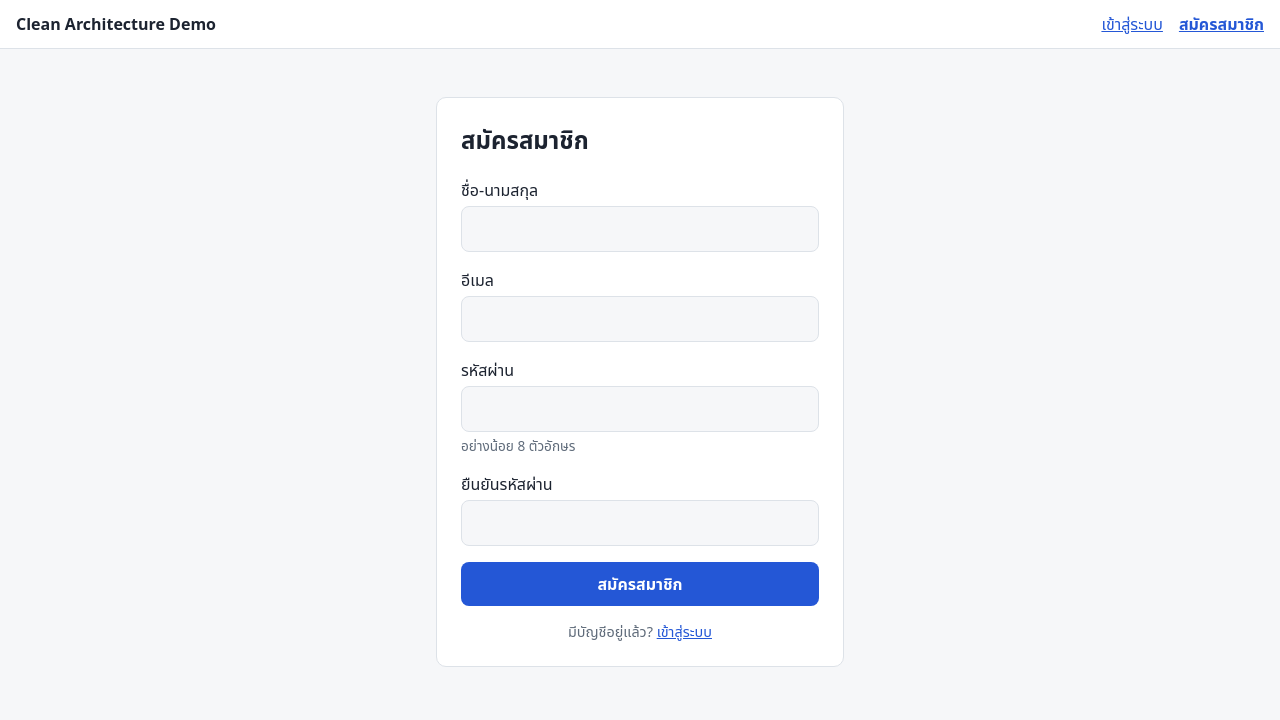
Test: RegisterPage › shows a taken email next to the email field
Step 1. Type "Jane Doe" into the field labelled "ชื่อ-นามสกุล" → (640, 229), box 461,206 -> 819,252
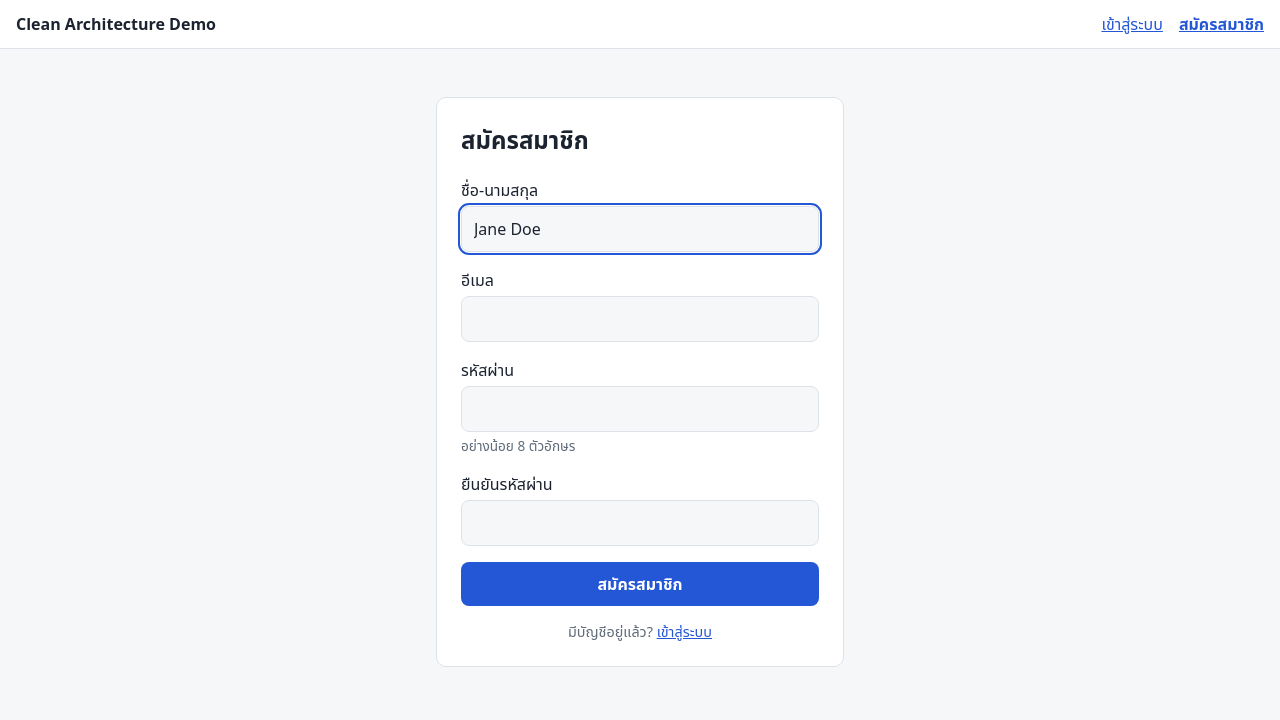
Step 2. Type "jane@example.com" into the field labelled "อีเมล" → (640, 319), box 461,296 -> 819,342
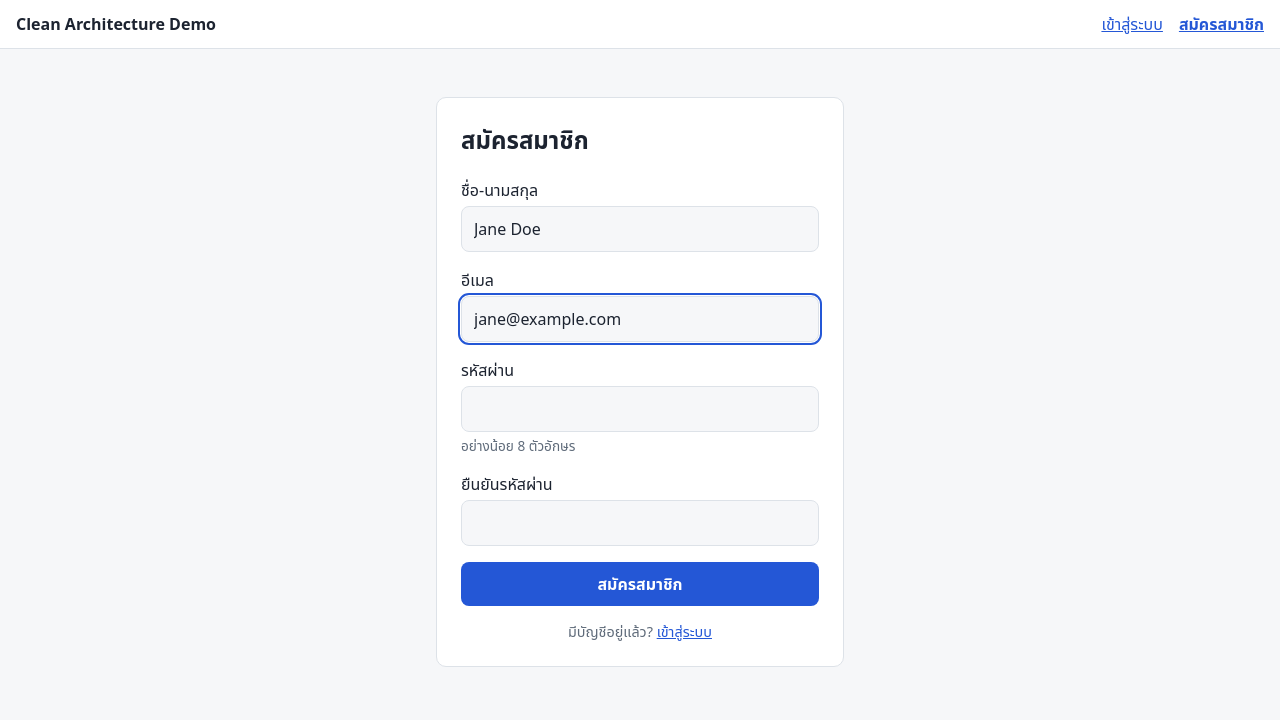
Step 3. Type "s3cret-pass" into the password field labelled "รหัสผ่าน" → (640, 409), box 461,386 -> 819,432
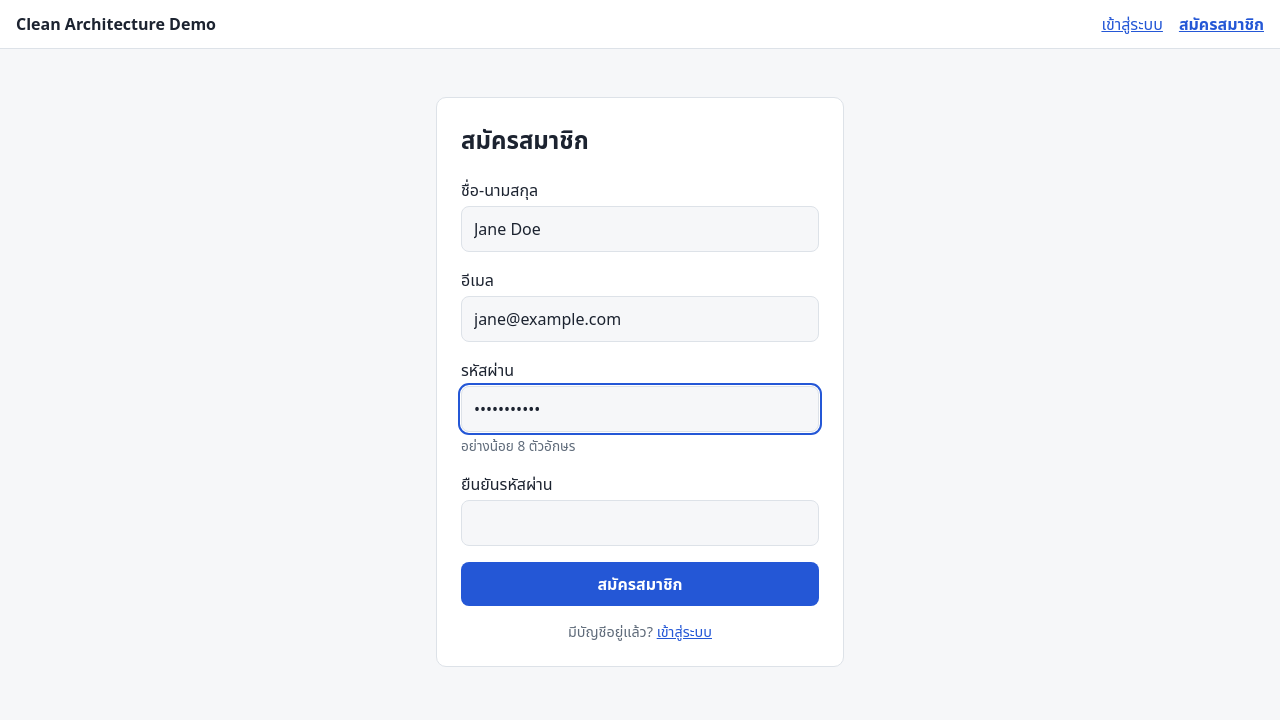
Step 4. Type "s3cret-pass" into the password field labelled "ยืนยันรหัสผ่าน" → (640, 523), box 461,500 -> 819,546
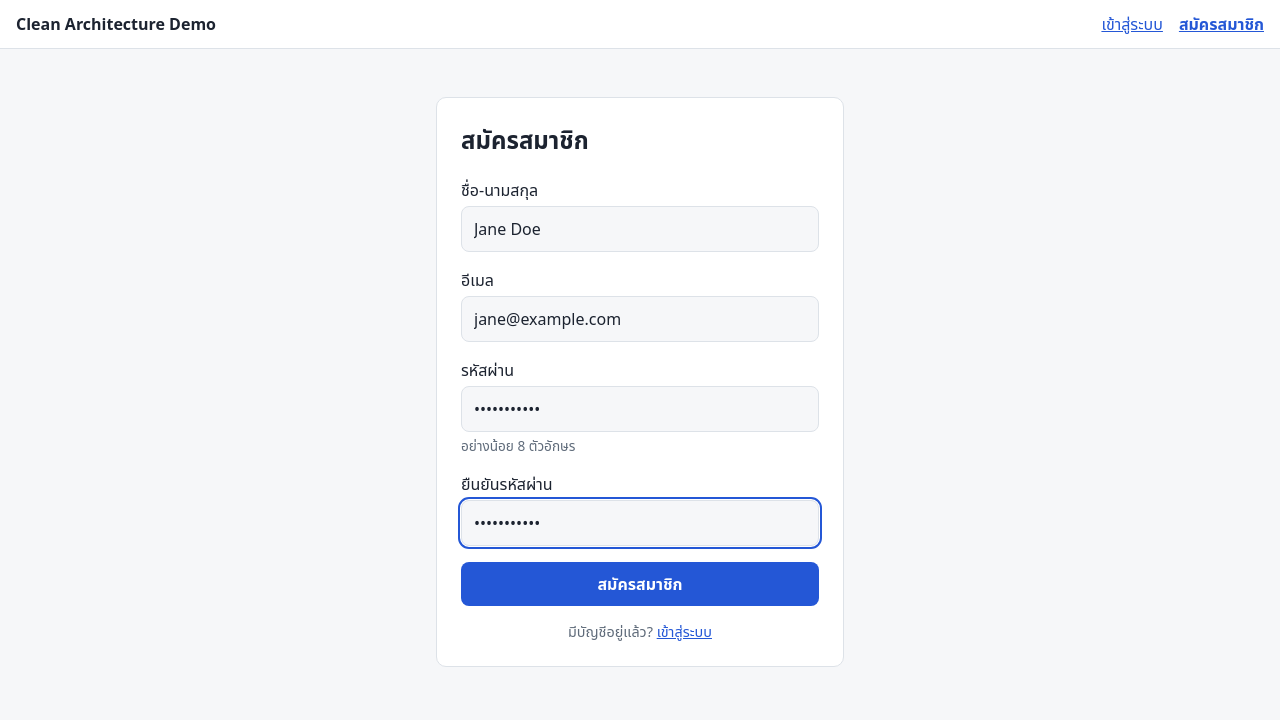
Step 5. Click the button "สมัครสมาชิก" → (640, 584), box 461,562 -> 819,606
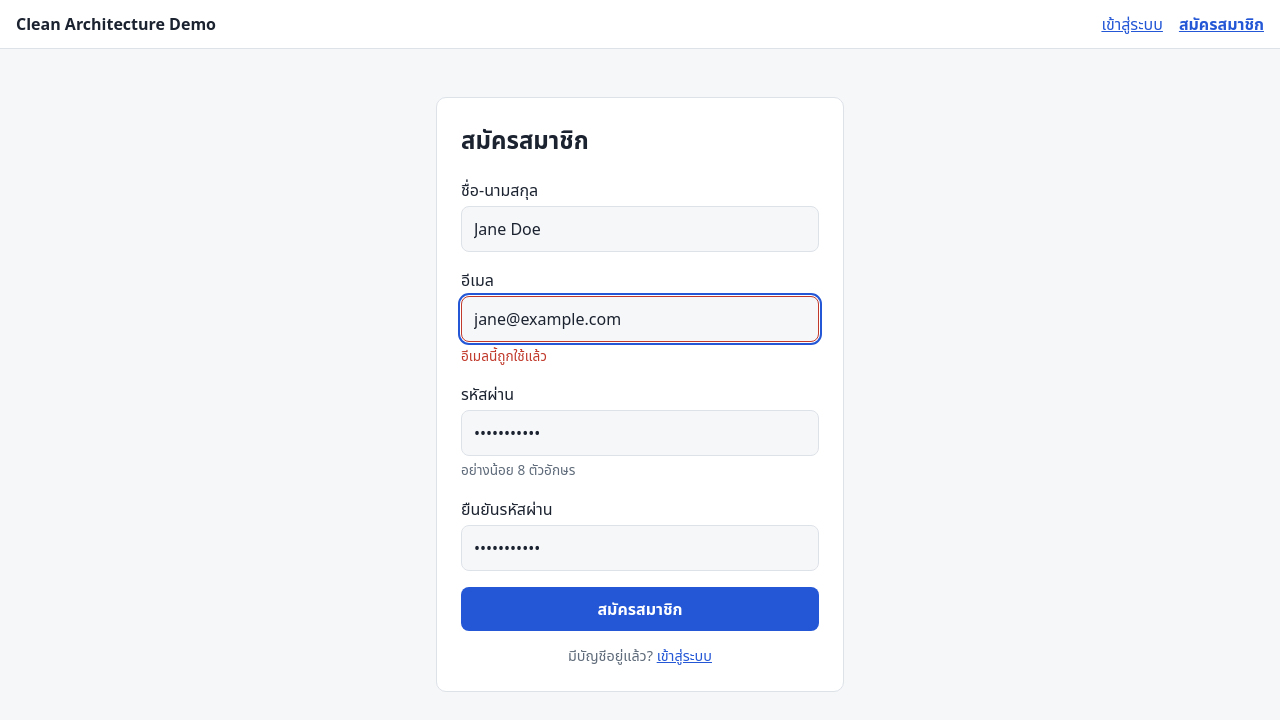
Now the text "อีเมลนี้ถูกใช้แล้ว" is shown, box 461,346 -> 547,365
